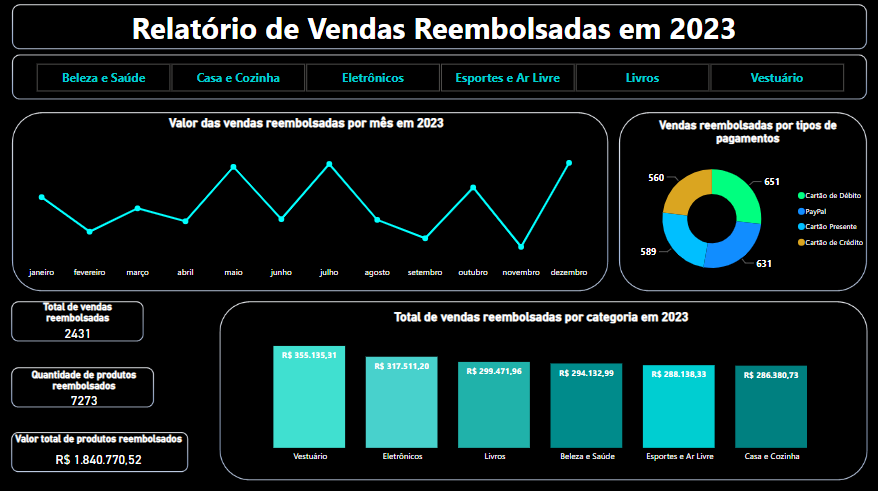

This screenshot's page, from the dashboard's own definition file:
{"tool":"powerbi","page":{"name":"Vendas_Reembolsadas_2023","canvas":[1280,720],"ordinal":3},"visuals":[{"type":"textbox","box":[29.7,7.1,1208,67.9],"z":0},{"type":"card","title":"Total de vendas reembolsadas","fields":{"Values":["Count(Vendas_Reembolsadas.ID do Pedido)"]},"box":[19.8,439.9,188.1,62.2],"z":1000},{"type":"card","title":"Quantidade de produtos reembolsados","fields":{"Values":["Sum(Vendas_Reembolsadas.Quantidade)"]},"box":[17,537.5,212.2,59.4],"z":2000},{"type":"card","title":"Valor total de produtos reembolsados","fields":{"Values":["Sum(Vendas_Reembolsadas.Preço Total)"]},"box":[15.5,631.1,257.6,61.8],"z":3000},{"type":"columnChart","title":"Total de vendas reembolsadas por categoria em 2023","fields":{"Category":["Vendas_Reembolsadas.Categoria do Produto"],"Y":["Sum(Vendas_Reembolsadas.Preço Total)"]},"box":[340.9,451.2,896.8,232],"z":4000},{"type":"donutChart","title":"Vendas reembolsadas por tipos de pagamentos","fields":{"Category":["Vendas_Reembolsadas.Tipo de Pagamento"],"Y":["CountNonNull(Vendas_Reembolsadas.ID do Pedido)"]},"box":[908.1,172.6,363.5,254.6],"z":5000},{"type":"lineChart","title":"Valor das vendas reembolsadas por mês em 2023","fields":{"Category":["Vendas_Reembolsadas.Data do Pedido.Variation.Hierarquia de datas.Mês"],"Y":["Sum(Vendas_Reembolsadas.Preço Total)"]},"box":[29.7,168.3,836,246.1],"z":6000},{"type":"slicer","fields":{"Values":["Vendas_Reembolsadas.Categoria do Produto"]},"box":[29.7,87.7,1223.6,53.8],"z":7000}]}

Visuals, with their boxes in screenshot pixels (x1, y1, x2, y2), scaled from the page's 1280x720 canvas onto the 878x491 screenshot:
textbox: x1=20 y1=5 x2=849 y2=51
"Total de vendas reembolsadas" card: x1=14 y1=300 x2=143 y2=342
"Quantidade de produtos reembolsados" card: x1=12 y1=367 x2=157 y2=407
"Valor total de produtos reembolsados" card: x1=11 y1=430 x2=187 y2=473
"Total de vendas reembolsadas por categoria em 2023" columnChart: x1=234 y1=308 x2=849 y2=466
"Vendas reembolsadas por tipos de pagamentos" donutChart: x1=623 y1=118 x2=872 y2=291
"Valor das vendas reembolsadas por mês em 2023" lineChart: x1=20 y1=115 x2=594 y2=283
slicer - Vendas_Reembolsadas.Categoria do Produto: x1=20 y1=60 x2=860 y2=96
